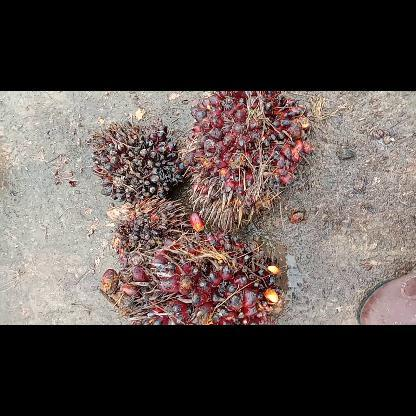Kurang masak: (102, 232, 284, 324)
TBS abnormal: (90, 120, 186, 204), (107, 196, 190, 266)
TBS masak: (182, 91, 312, 230)
